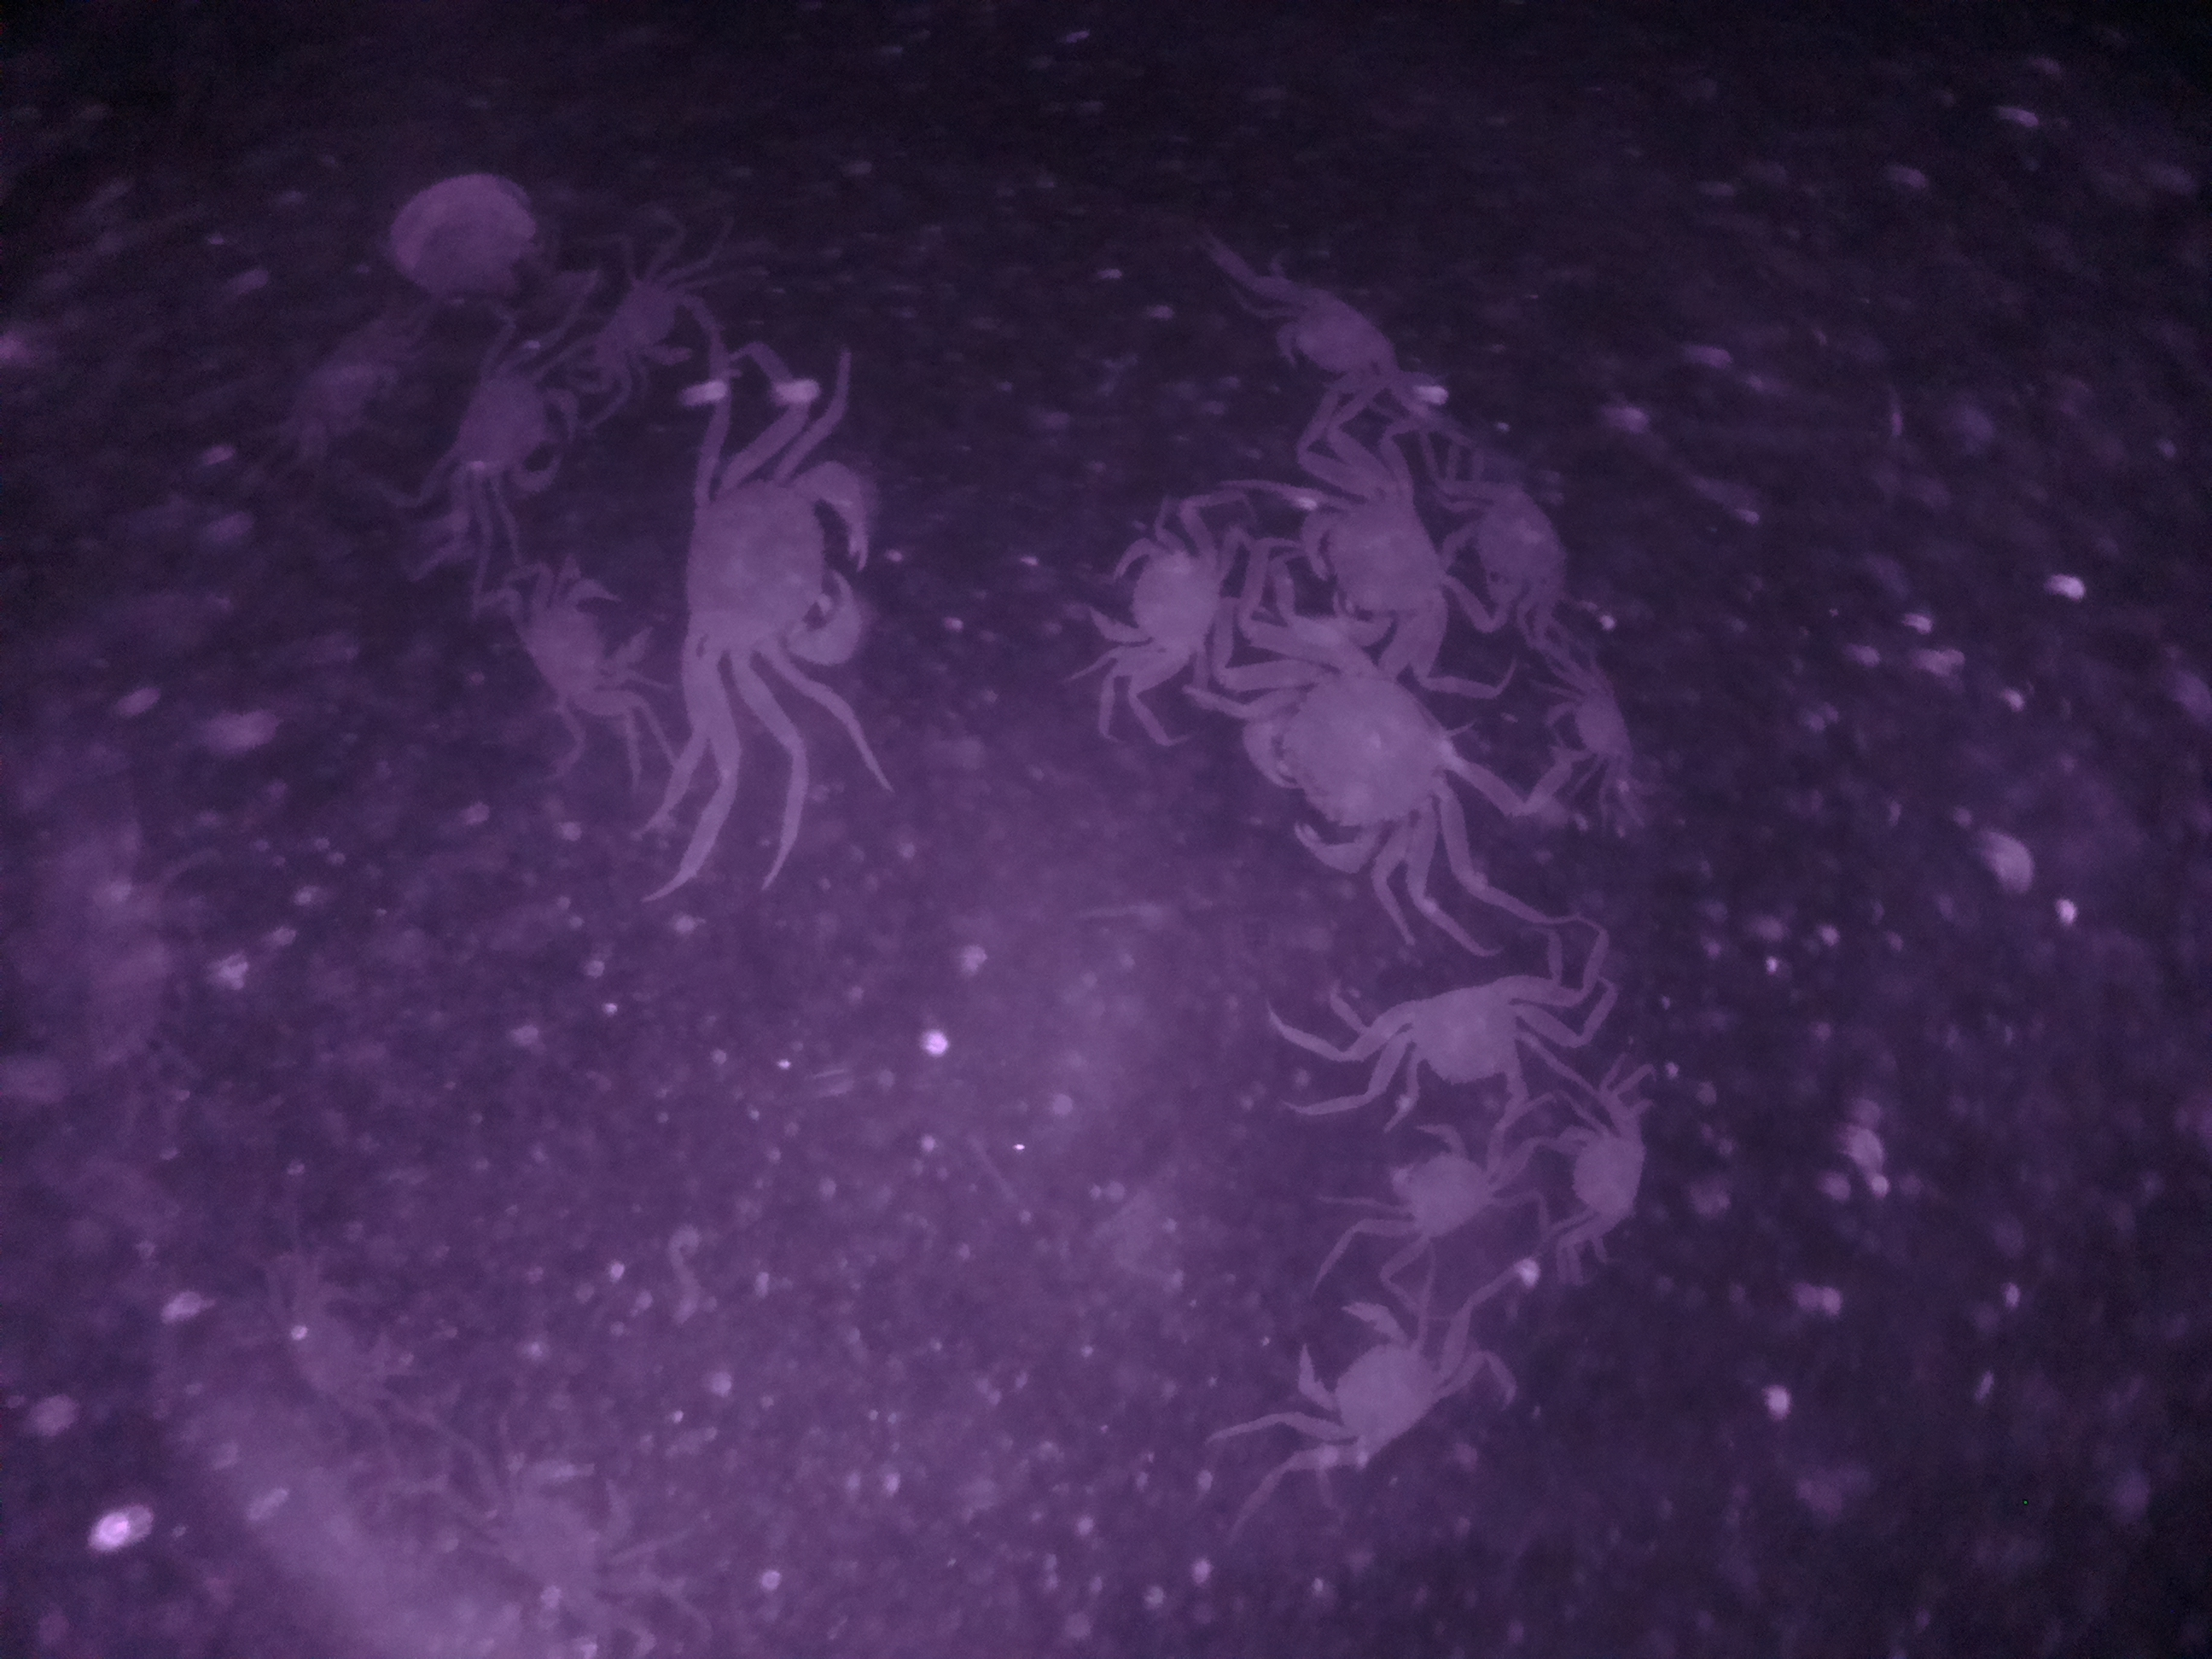Crab: (1226, 624, 1468, 896), (671, 429, 887, 699), (1273, 446, 1453, 655), (1263, 1288, 1456, 1474), (1336, 967, 1554, 1127), (493, 542, 664, 741), (1073, 504, 1235, 678), (1439, 450, 1592, 629), (1524, 1100, 1665, 1243), (1385, 1110, 1501, 1260)
